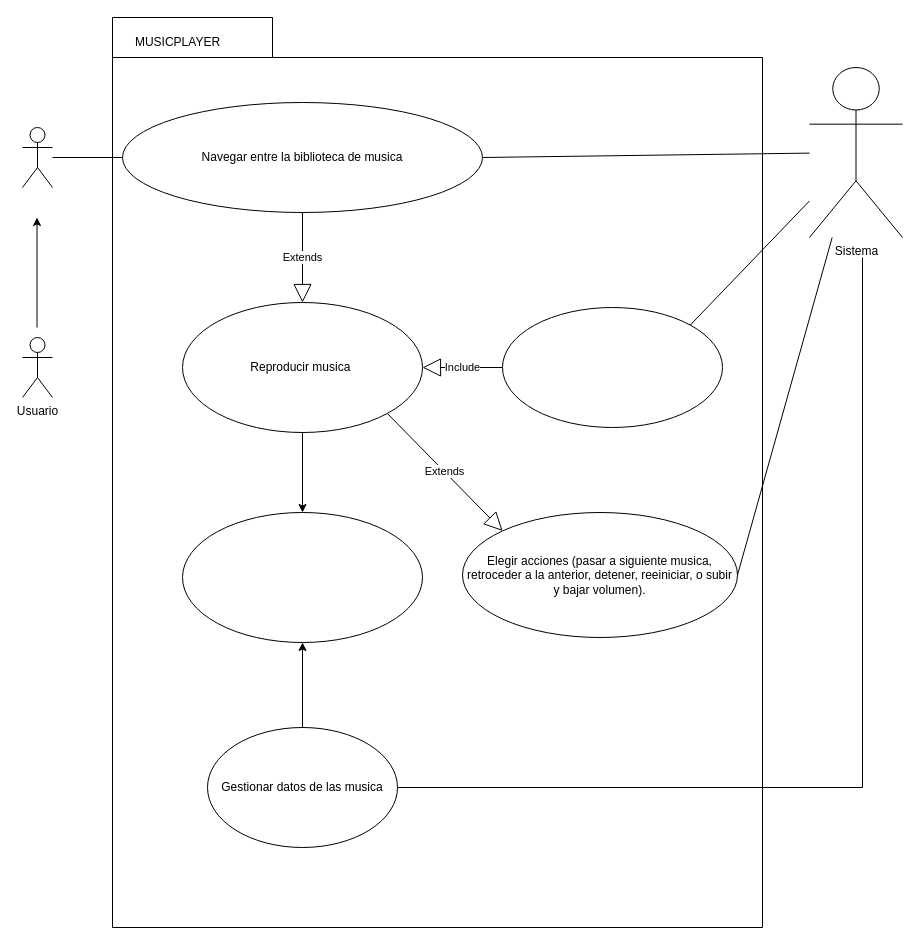
The diagram is 920 pixels wide and 945 high, and some of its shapes have lost their labels. Each missing label, with the box of its shape:
JPlayer: (22, 126, 52, 188)
Mostrar nombre de la musica, genero y artista: (182, 512, 422, 642)
Reproducir audio de la musica: (502, 306, 722, 428)
